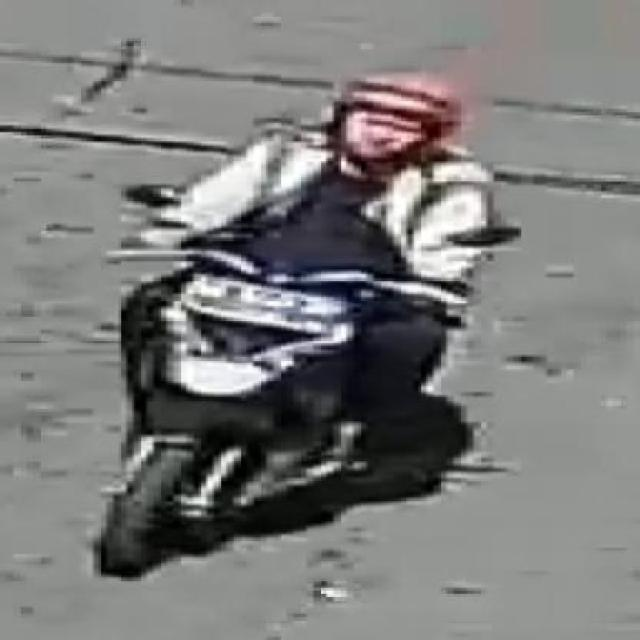helmet: (312, 70, 480, 190)
motorcycle: (41, 62, 551, 591)
